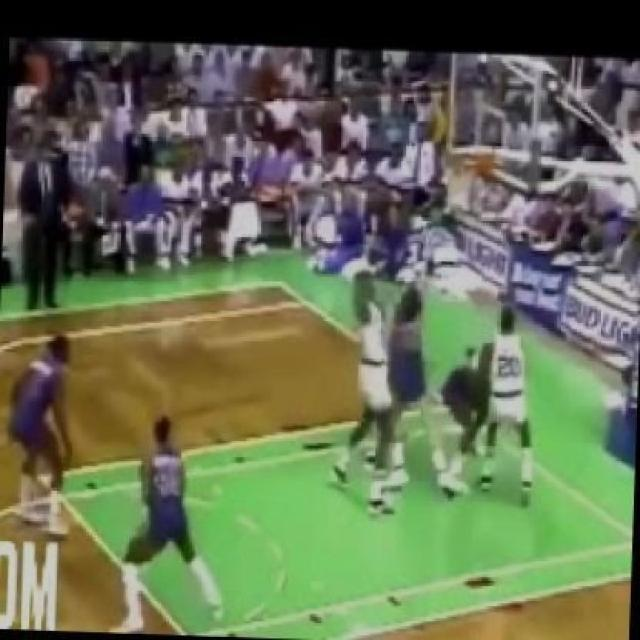fight: (431, 299, 549, 509)
non-fight: (103, 406, 223, 634), (6, 110, 79, 316), (1, 329, 84, 502)
